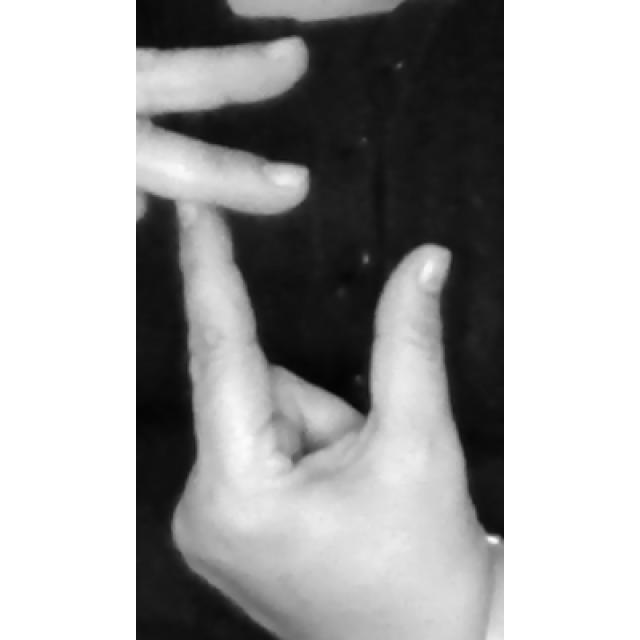U--: (138, 37, 504, 640)
